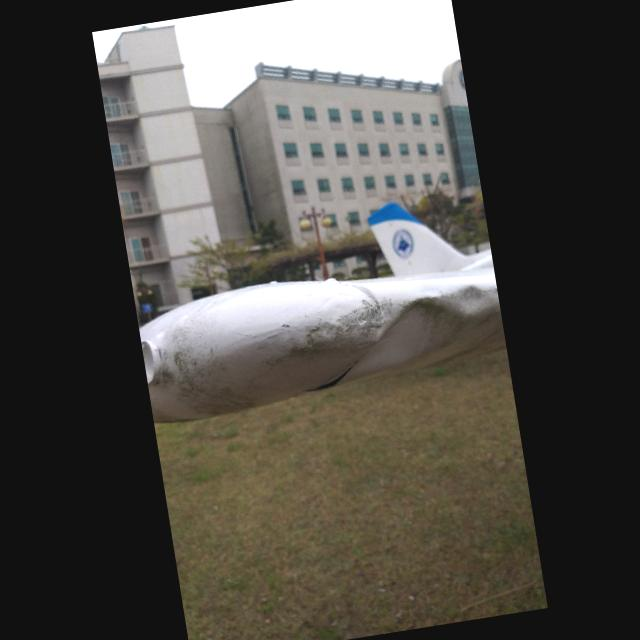dent: (327, 291, 475, 386), (447, 281, 490, 318)
